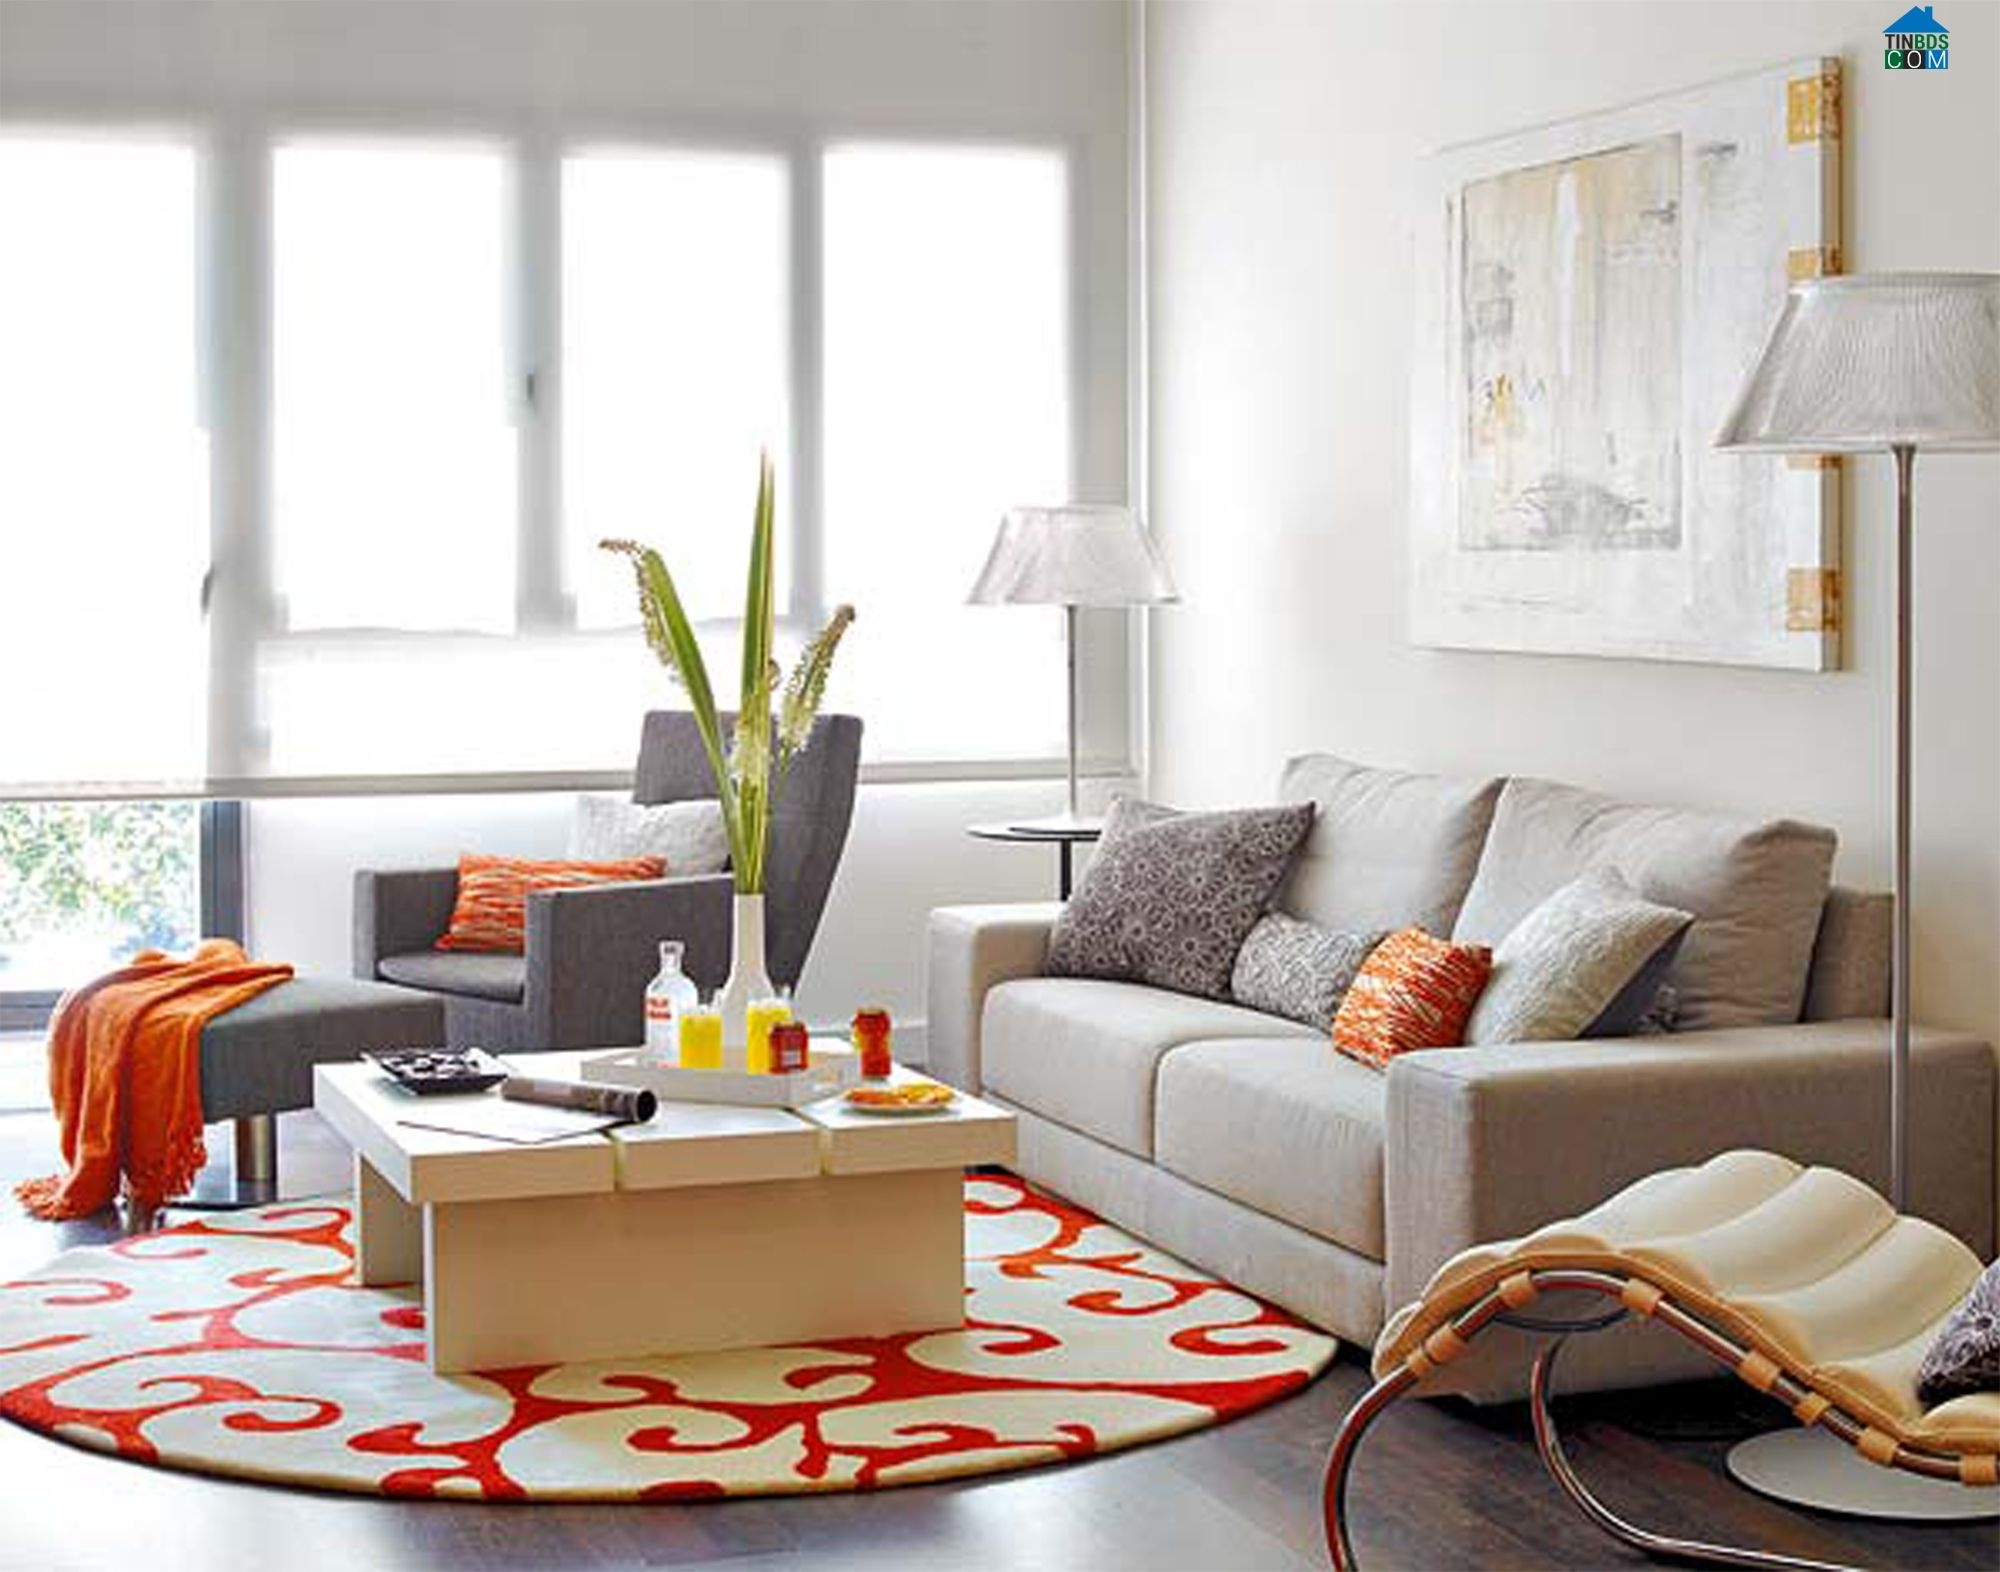kuning: (679, 1013, 722, 1070), (745, 995, 776, 1069)
merah: (852, 1008, 898, 1078), (766, 1020, 805, 1069)
orange: (37, 947, 291, 1211)
putih: (1701, 270, 2000, 460), (977, 502, 1174, 611), (729, 893, 769, 999)
